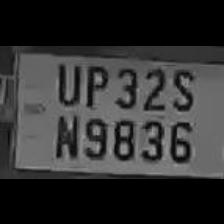2: (138, 63, 166, 109)
3: (136, 114, 164, 162), (110, 61, 138, 107)
6: (164, 114, 194, 162)
8: (110, 113, 136, 159)
9: (80, 111, 108, 159)
N: (50, 108, 78, 158)
P: (80, 59, 110, 107)
S: (168, 63, 196, 109)
U: (50, 56, 82, 104)
